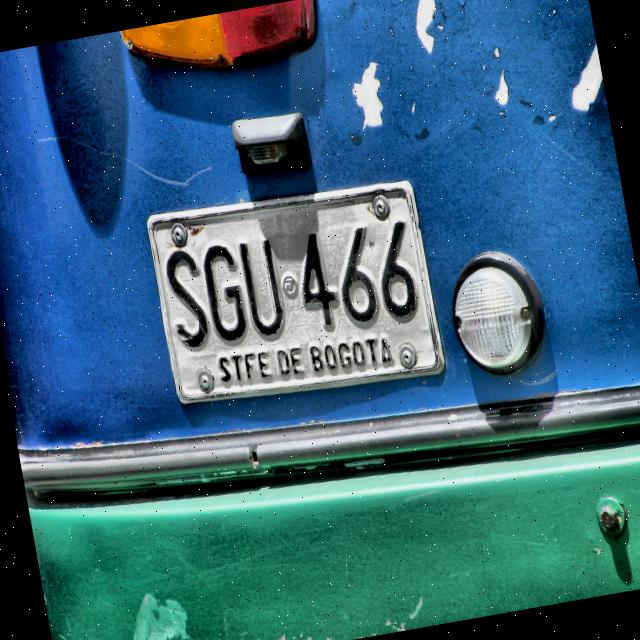plate: (146, 181, 445, 403)
